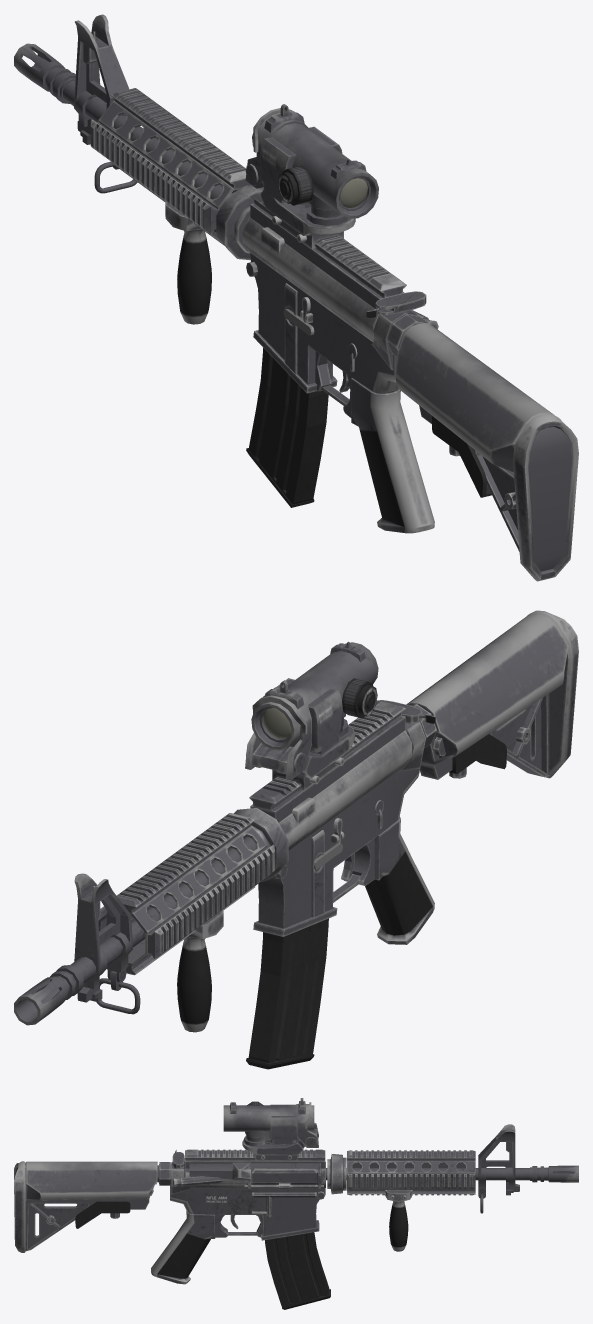
File: fuzil_am.glb
3 renders of one model, top to bottom at view 1: azimuth 30°, elevation 25°; view 2: azimuth 150°, elevation 25°; view 3: azimuth 270°, elevation 25°, orthographic. The views are drawn at different scales.
Parts seen in each view (by area): view 1: Object_4, Object_3; view 2: Object_4, Object_3, Object_2; view 3: Object_4, Object_3.
Part boxes in pixels (left/top/right/bottom): Object_4: left=14, top=14, right=578, bottom=581; Object_3: left=93, top=31, right=426, bottom=507; Object_4: left=14, top=610, right=578, bottom=1025; Object_3: left=93, top=641, right=435, bottom=1069; Object_2: left=263, top=708, right=291, bottom=738; Object_4: left=14, top=1124, right=578, bottom=1284; Object_3: left=172, top=1098, right=412, bottom=1309.
Bounding box in the file's own units: 0.0456 × 0.2085 × 0.5102.
2 materials, 1 textured.
